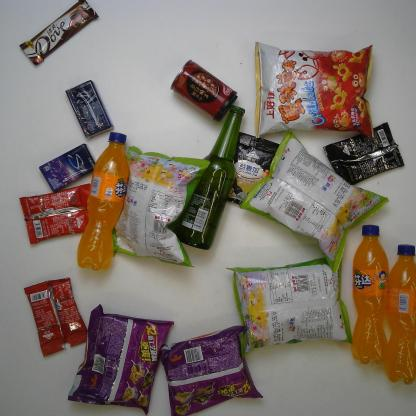Alcohol: (174, 105, 246, 251)
Canned Food: (168, 59, 238, 121)
Chocolate: (18, 1, 98, 67)
Drink: (76, 131, 127, 270), (351, 223, 388, 366), (385, 240, 416, 387)
Gum: (64, 79, 113, 140), (37, 143, 96, 192)
Instant Drink: (322, 121, 404, 189), (21, 277, 88, 357), (18, 183, 94, 245), (225, 130, 280, 208)
Instant Noodles: (68, 301, 174, 416), (154, 324, 266, 415)
Puffed Food: (238, 131, 390, 273), (224, 255, 356, 355), (112, 142, 210, 271), (251, 40, 377, 139)
